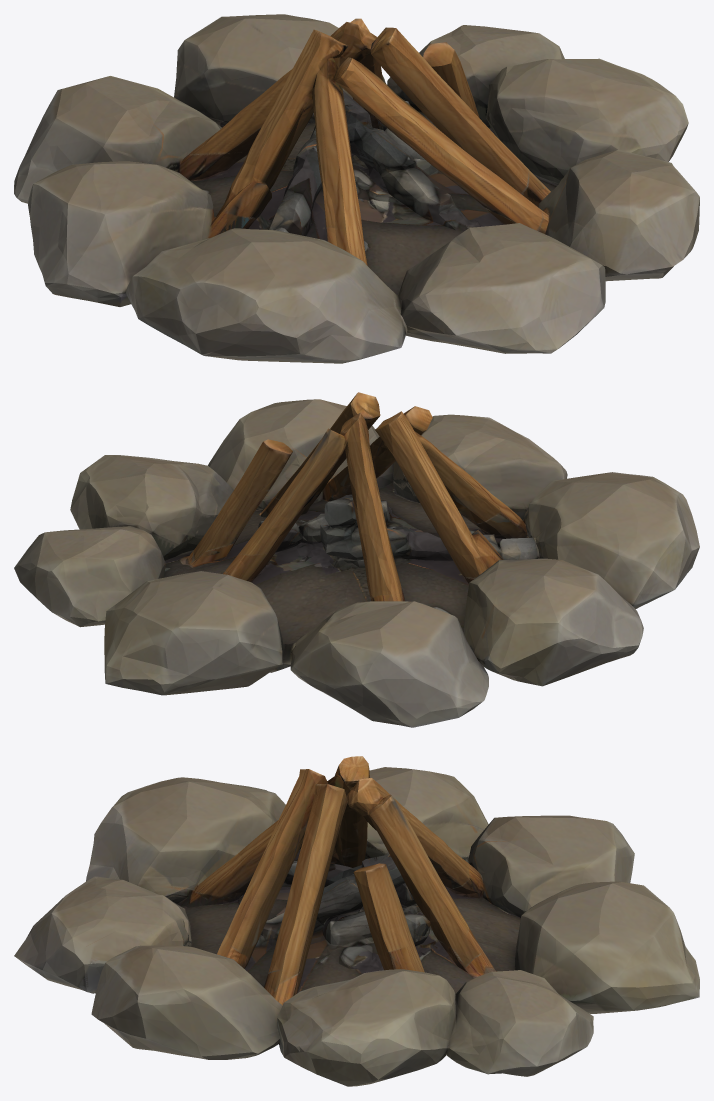
Rendered from Campfire.fbx.
The picture shows the model from 3 angles, top to bottom: view 1: azimuth 30°, elevation 25°; view 2: azimuth 150°, elevation 25°; view 3: azimuth 270°, elevation 25°; orthographic projection. The views are drawn at different scales.
Visible parts, largest first — view 1: temp; view 2: temp; view 3: temp.
Boxes of the visible parts, <box> form: temp: <box>14,14,699,363</box>; temp: <box>14,392,699,727</box>; temp: <box>14,756,699,1086</box>.
Bounding box in the file's own units: 191 × 63.93 × 199.
Materials: 1 (1 with a texture image).
